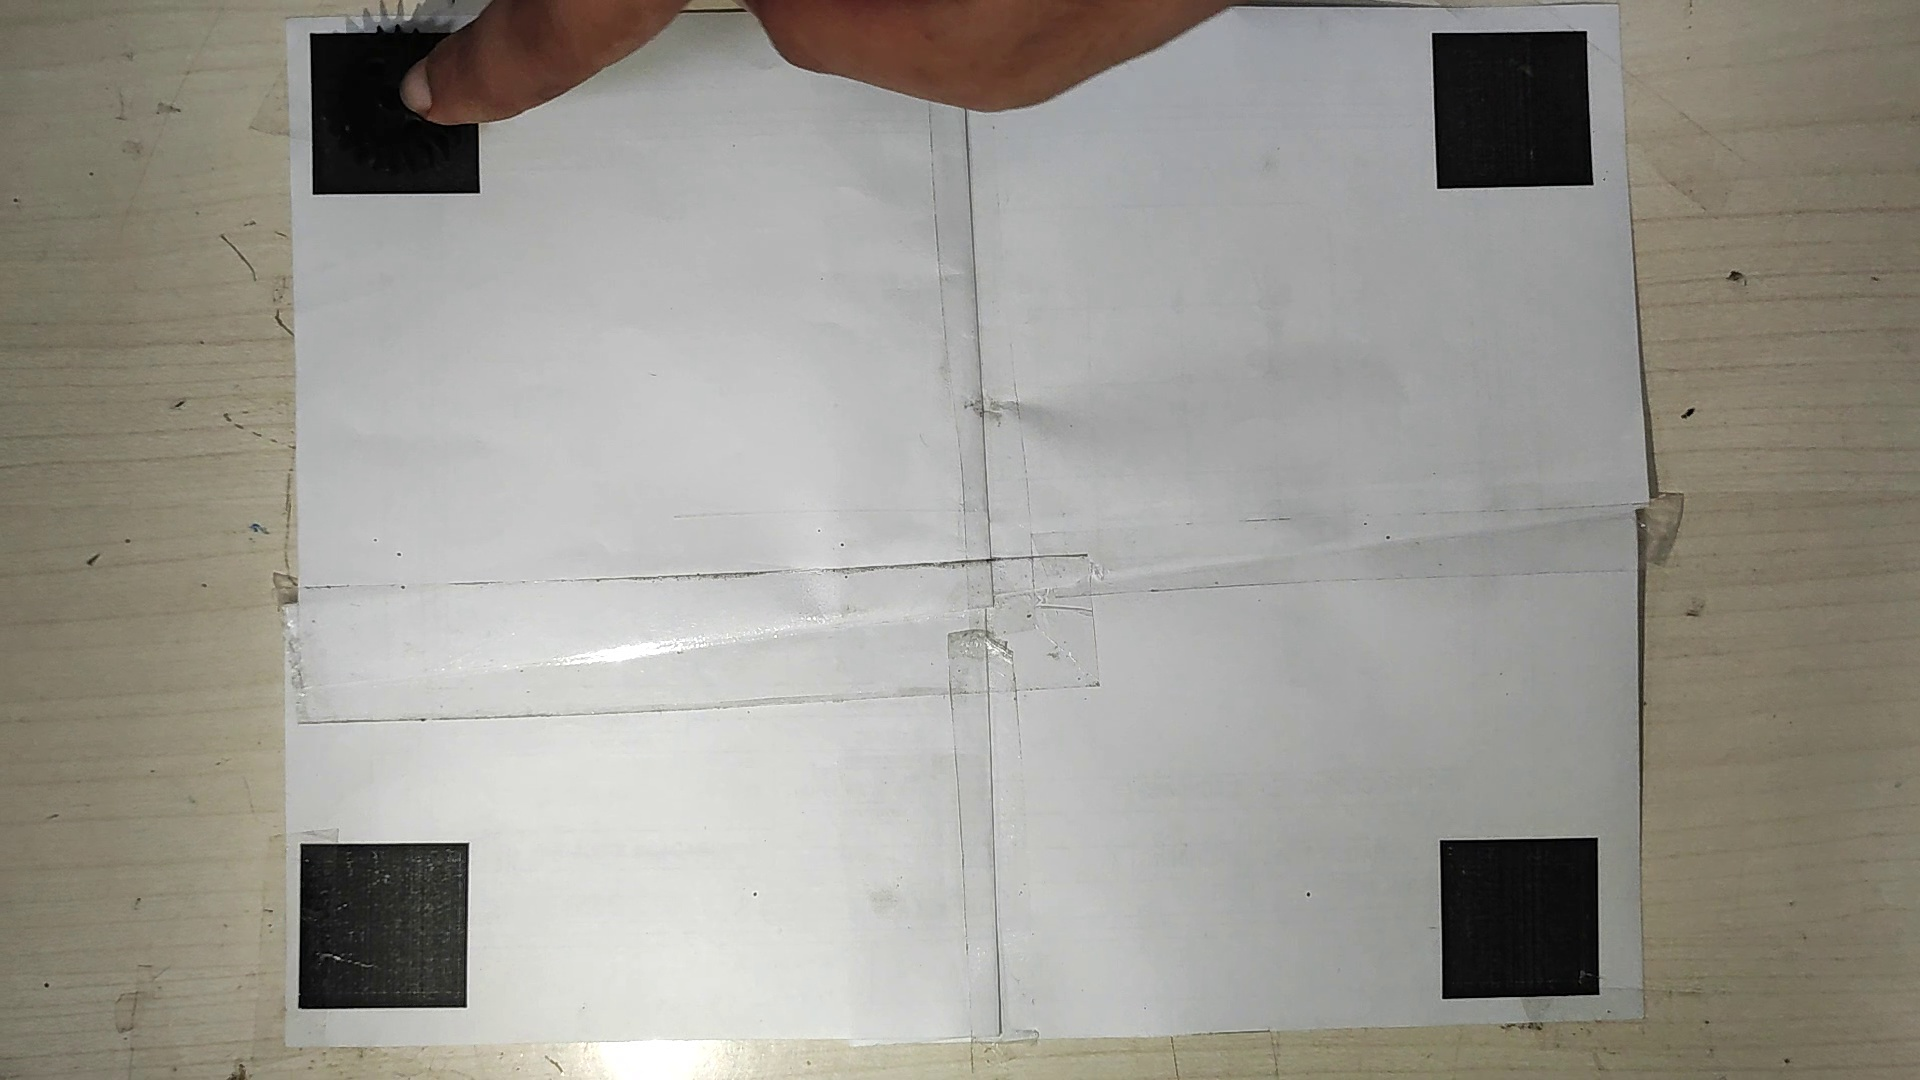Gear: (320, 25, 490, 178)
